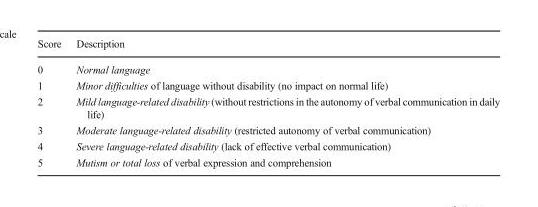table: (36, 37, 499, 167)
table column: (67, 37, 499, 167), (36, 37, 67, 167)
table column header: (36, 37, 499, 55)
table row: (36, 92, 499, 121), (36, 55, 499, 76), (36, 37, 499, 55), (36, 76, 499, 92), (36, 121, 499, 137), (36, 137, 499, 153), (36, 153, 499, 167)
